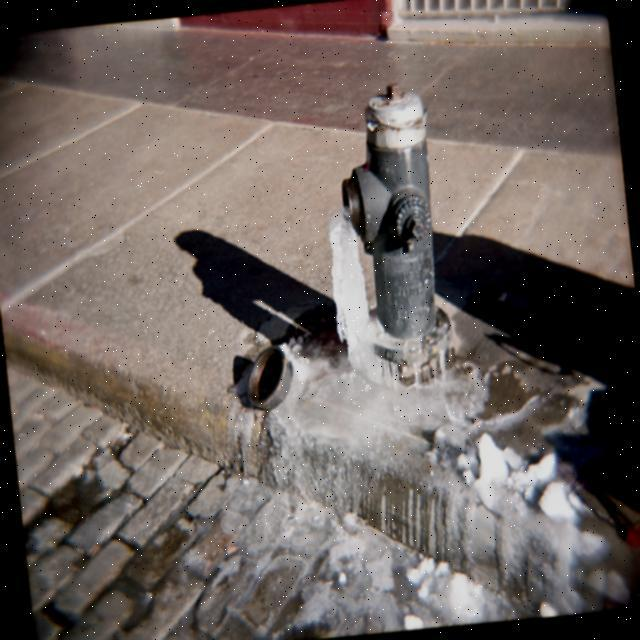fire_hydrant: (332, 84, 454, 383)
